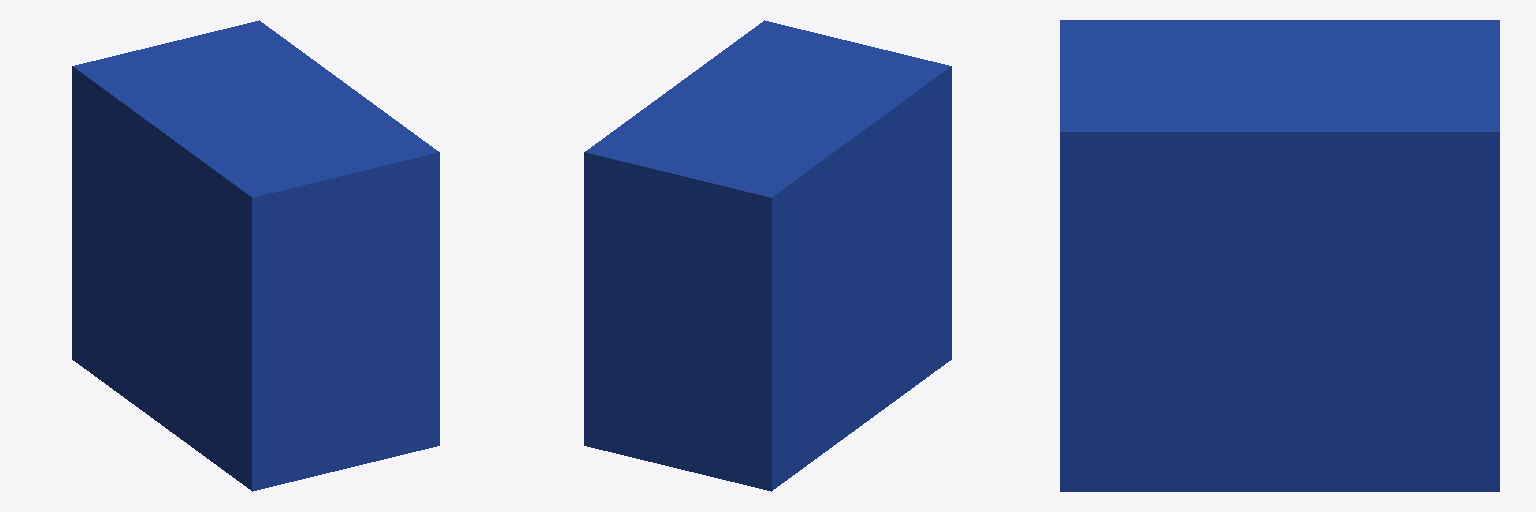
The robot description file, URDF, robot "spam":
<?xml version="1.0" ?>
<!-- Spam: box 6cm deep x 10cm wide x 9cm tall -->
<robot name="spam">
  <link name="spam_link">
    <visual>
      <geometry>
        <box size="0.06 0.10 0.09"/>
      </geometry>
      <material name="spam_color">
        <color rgba="0.20 0.35 0.70 1.0"/>
      </material>
    </visual>
    <collision>
      <geometry>
        <box size="0.06 0.10 0.09"/>
      </geometry>
    </collision>
    <inertial>
      <mass value="0.35"/>
      <inertia ixx="0.001" ixy="0.0" ixz="0.0" iyy="0.001" iyz="0.0" izz="0.001"/>
    </inertial>
  </link>
</robot>

--- What the picture shows (computed from the rendered views, not written in the file) ---
3 views of the same robot in one strip: view 1: azimuth 30°, elevation 25°; view 2: azimuth 150°, elevation 25°; view 3: azimuth 270°, elevation 25° (orthographic).
Robot: spam — 1 links, 0 joints (none); root link spam_link; default pose: all joints at 0.
Visible links, largest first — view 1: spam_link; view 2: spam_link; view 3: spam_link.
Link boxes in pixels (<box>): spam_link: <box>72,20,439,491</box>; spam_link: <box>584,20,951,491</box>; spam_link: <box>1060,20,1499,491</box>.
Size in the robot's own frame: 0.06 by 0.1 by 0.09 metres.
Geometry: primitives only (box / cylinder / sphere), no mesh files.
